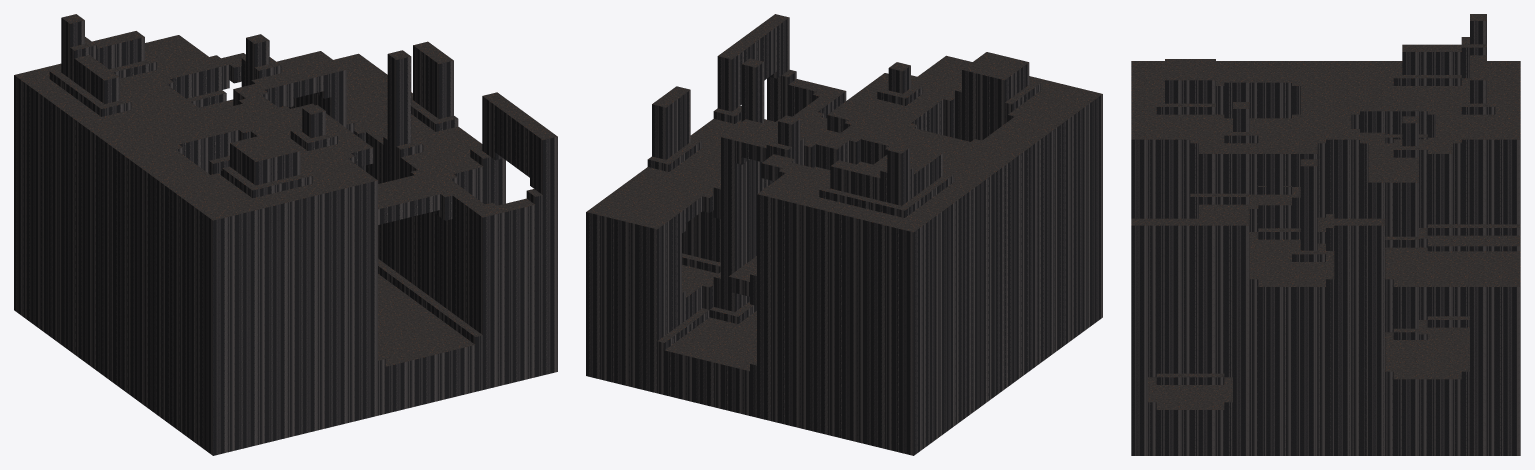
Rendered from basalte.glb.
The picture shows the model from 3 angles, left to right: view 1: azimuth 30°, elevation 25°; view 2: azimuth 150°, elevation 25°; view 3: azimuth 270°, elevation 25°; orthographic projection. The views are drawn at different scales.
Parts seen in each view (by area): view 1: edge_inner_b4h2_outdoor_345, edge_inner_b4h2_outdoor_338, slab_b2h2_outdoor_161, slab_b2h2_outdoor_310, slab_b2h2_outdoor_330, slab_b2h2_outdoor_377, slab_b2h2_outdoor_745, slab_b2h2_outdoor_916, slab_b2h2_outdoor_131, slab_b2h2_outdoor_141, slab_b2h2_outdoor_173, slab_b2h2_outdoor_209 (+182 smaller); view 2: edge_inner_b4h2_outdoor_337, edge_inner_b4h2_outdoor_254, edge_inner_b3h3_outdoor_407, edge_inner_b4h2_845, corner_inner_b4h3_outdoor_749, slab_b2h2_outdoor_513, slab_b2h2_outdoor_692, slab_b2h2_outdoor_842, slab_b2h2_outdoor_850, slab_b2h2_outdoor_857, slab_b2h2_outdoor_835, slab_b2h2_outdoor_837 (+157 smaller); view 3: edge_inner_b4h2_outdoor_256, edge_inner_b4h2_outdoor_419, edge_inner_b4h2_outdoor_552, edge_inner_b4h2_553, edge_inner_b4h2_571, edge_inner_b4h2_outdoor_839, ell_inner_b3h2_b_572, slab_b2h2_outdoor_1016, slab_b2h2_outdoor_1023, slab_b2h2_outdoor_576, slab_b2h2_outdoor_586, slab_b2h2_outdoor_967 (+164 smaller).
Part boxes in pixels (x1,y1,x2,y2): edge_inner_b4h2_outdoor_345: (263,161,305,200); edge_inner_b4h2_outdoor_338: (107,46,149,86); slab_b2h2_outdoor_161: (220,282,250,320); slab_b2h2_outdoor_310: (280,299,310,337); slab_b2h2_outdoor_330: (280,236,310,274); slab_b2h2_outdoor_377: (310,323,340,361); slab_b2h2_outdoor_745: (460,349,490,387); slab_b2h2_outdoor_916: (520,240,550,278); slab_b2h2_outdoor_131: (220,407,250,445); slab_b2h2_outdoor_141: (220,345,250,383); slab_b2h2_outdoor_173: (220,219,250,257); slab_b2h2_outdoor_209: (250,369,280,407); edge_inner_b4h2_outdoor_337: (825,175,865,213); edge_inner_b4h2_outdoor_254: (854,182,894,220); edge_inner_b3h3_outdoor_407: (935,105,969,138); edge_inner_b4h2_845: (682,240,715,277); corner_inner_b4h3_outdoor_749: (694,292,727,326); slab_b2h2_outdoor_513: (735,375,764,411); slab_b2h2_outdoor_692: (678,361,707,397); slab_b2h2_outdoor_842: (621,288,650,324); slab_b2h2_outdoor_850: (621,258,650,294); slab_b2h2_outdoor_857: (621,228,650,264); slab_b2h2_outdoor_835: (621,347,650,383); slab_b2h2_outdoor_837: (621,318,650,354); edge_inner_b4h2_outdoor_256: (1410,59,1444,93); edge_inner_b4h2_outdoor_419: (1173,88,1207,121); edge_inner_b4h2_outdoor_552: (1478,209,1512,242); edge_inner_b4h2_553: (1444,209,1478,242); edge_inner_b4h2_571: (1207,178,1241,211); edge_inner_b4h2_outdoor_839: (1173,358,1207,391); ell_inner_b3h2_b_572: (1173,178,1207,212); slab_b2h2_outdoor_1016: (1478,294,1512,325); slab_b2h2_outdoor_1023: (1241,294,1275,325); slab_b2h2_outdoor_576: (1478,147,1512,178); slab_b2h2_outdoor_586: (1139,147,1173,178); slab_b2h2_outdoor_967: (1478,417,1512,448).
Bounding box in the file's own units: 11.5 × 9.5 × 11.5.
Materials: 2 (2 with a texture image).
